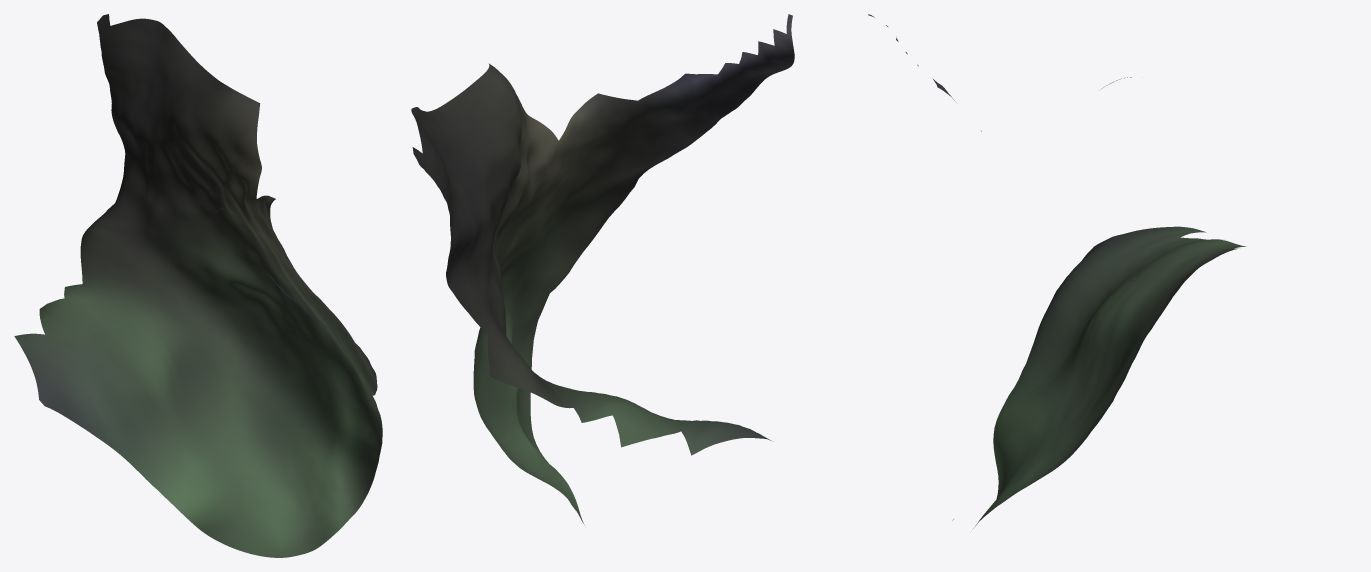
The model's file is Cloud_global_new_1.glb.
The picture shows the model from 3 angles, left to right: view 1: azimuth 30°, elevation 25°; view 2: azimuth 150°, elevation 25°; view 3: azimuth 270°, elevation 25°; orthographic projection. The views are drawn at different scales.
Visible parts, largest first — view 1: LOD0; view 2: LOD0; view 3: LOD0.
Boxes of the visible parts, x1,y1,x2,y2 form: LOD0: (14,14,382,557); LOD0: (411,14,794,524); LOD0: (868,14,1246,528).
Size of what is drawn, in the model's own units: 0.7979 by 1.23 by 1.16.
